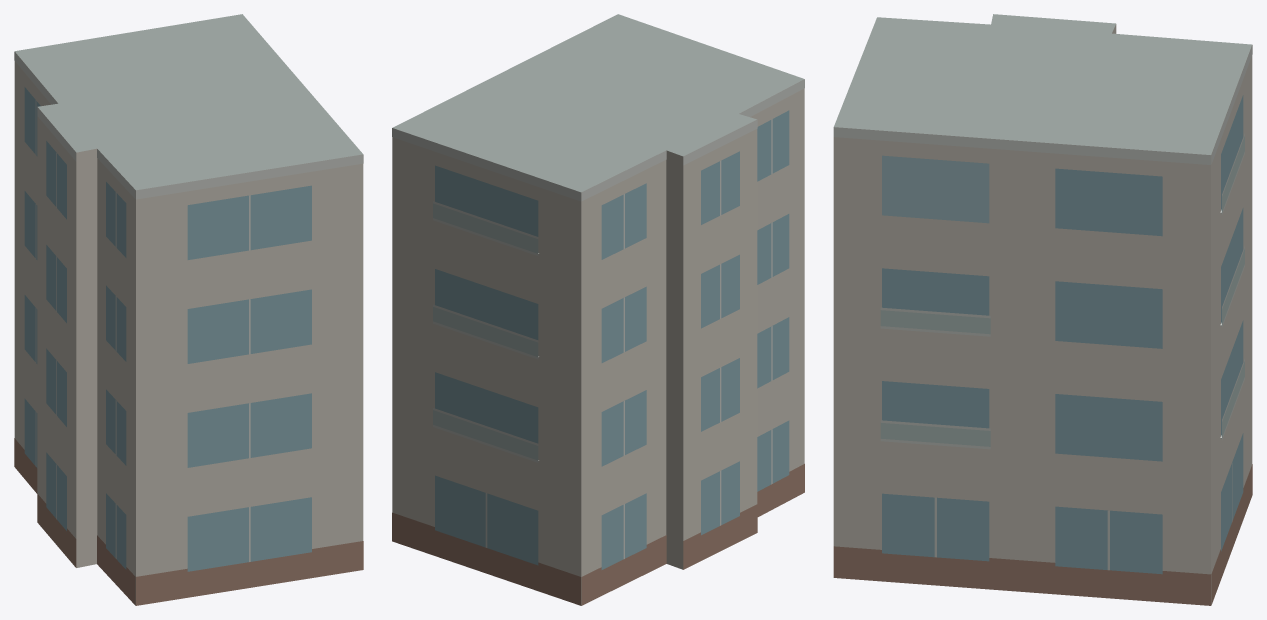
The model's file is survey-upis-32491652.glb.
The picture shows the model from 3 angles, left to right: view 1: azimuth 30°, elevation 25°; view 2: azimuth 150°, elevation 25°; view 3: azimuth 270°, elevation 25°; orthographic projection. The views are drawn at different scales.
Parts seen in each view (by area): view 1: survey-upis-32491652.tmp; view 2: survey-upis-32491652.tmp; view 3: survey-upis-32491652.tmp.
Boxes of the visible parts, x1,y1,x2,y2 form: survey-upis-32491652.tmp: (14,14,363,605); survey-upis-32491652.tmp: (392,14,804,605); survey-upis-32491652.tmp: (833,14,1252,605).
Size of the model in its own units: 7.4 by 11 by 9.27.
